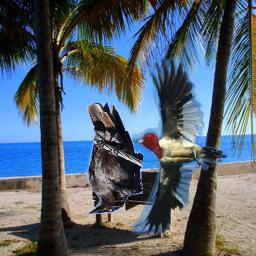Crow: (87, 103, 144, 216)
Woodpecker: (133, 57, 228, 235)
